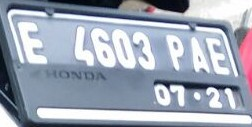plate: (7, 6, 251, 127)
